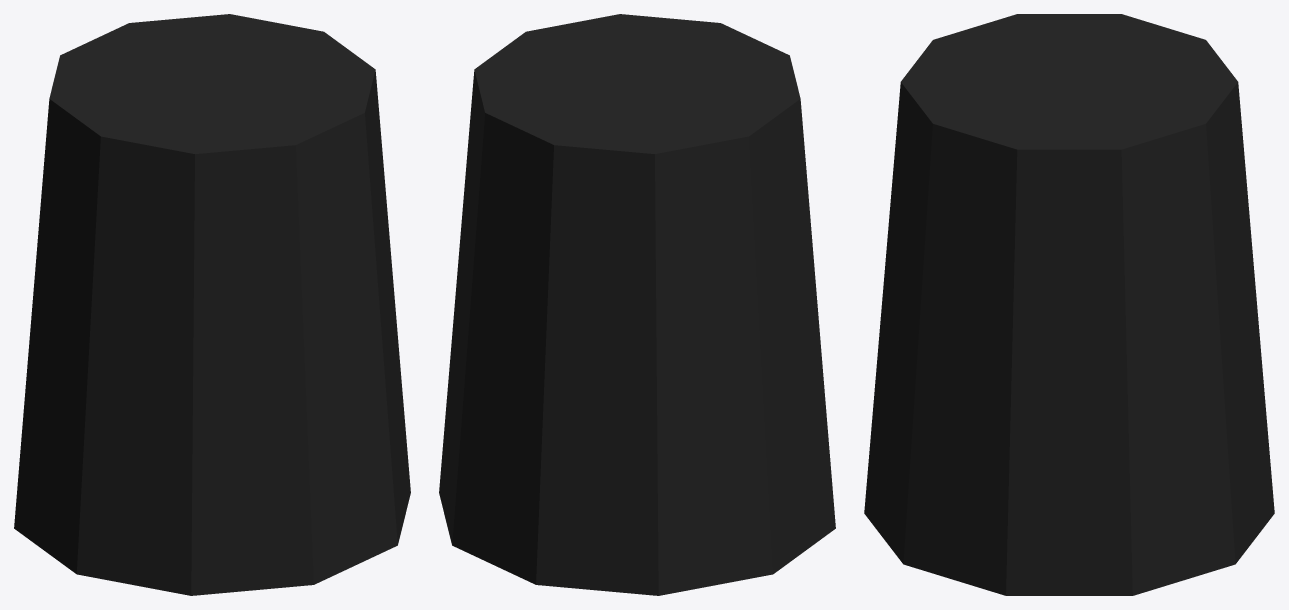
File: dicecup01.obj
3 renders of one model, left to right at view 1: azimuth 30°, elevation 25°; view 2: azimuth 150°, elevation 25°; view 3: azimuth 270°, elevation 25°, orthographic.
Parts seen in each view (by area): view 1: Cylinder; view 2: Cylinder; view 3: Cylinder.
Boxes of the visible parts, x1,y1,x2,y2 form: Cylinder: (14,14,410,595); Cylinder: (439,14,835,595); Cylinder: (864,14,1274,595).
Size of the model in its own units: 0.0614 by 0.0749 by 0.0645.
